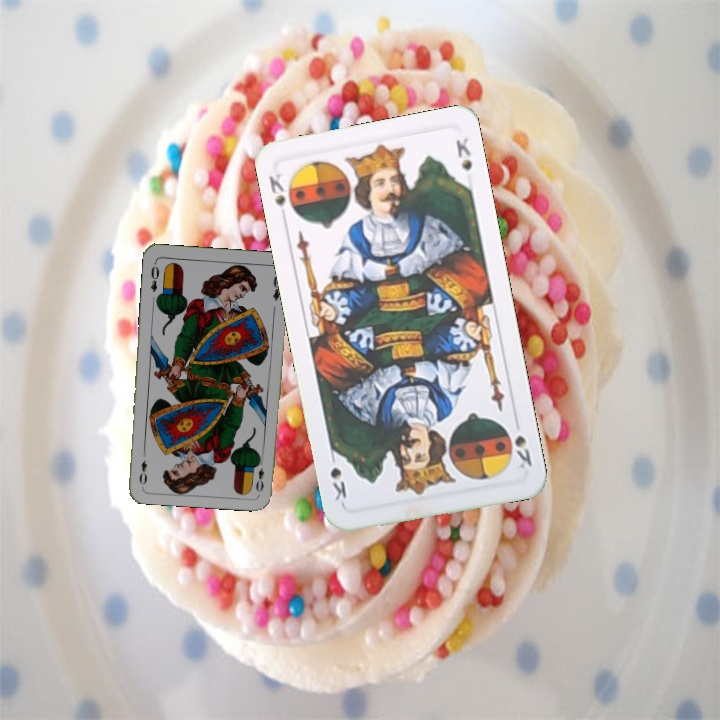EO: (252, 455, 267, 495), (146, 258, 161, 295)
SK: (264, 170, 290, 224), (510, 431, 535, 471)
